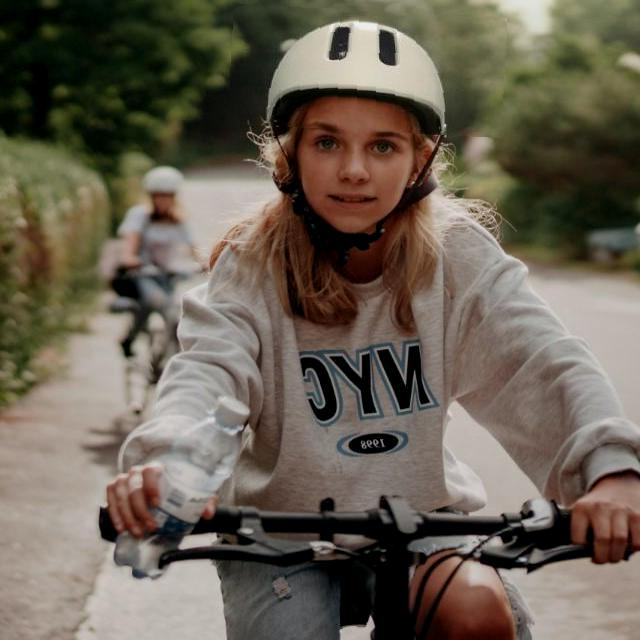helmet: (229, 8, 505, 134)
